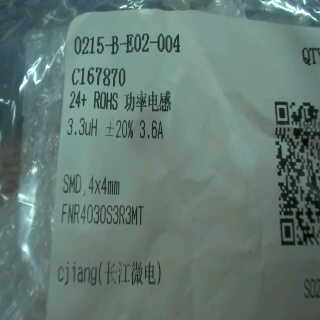3.3uH: (64, 111, 101, 152)
